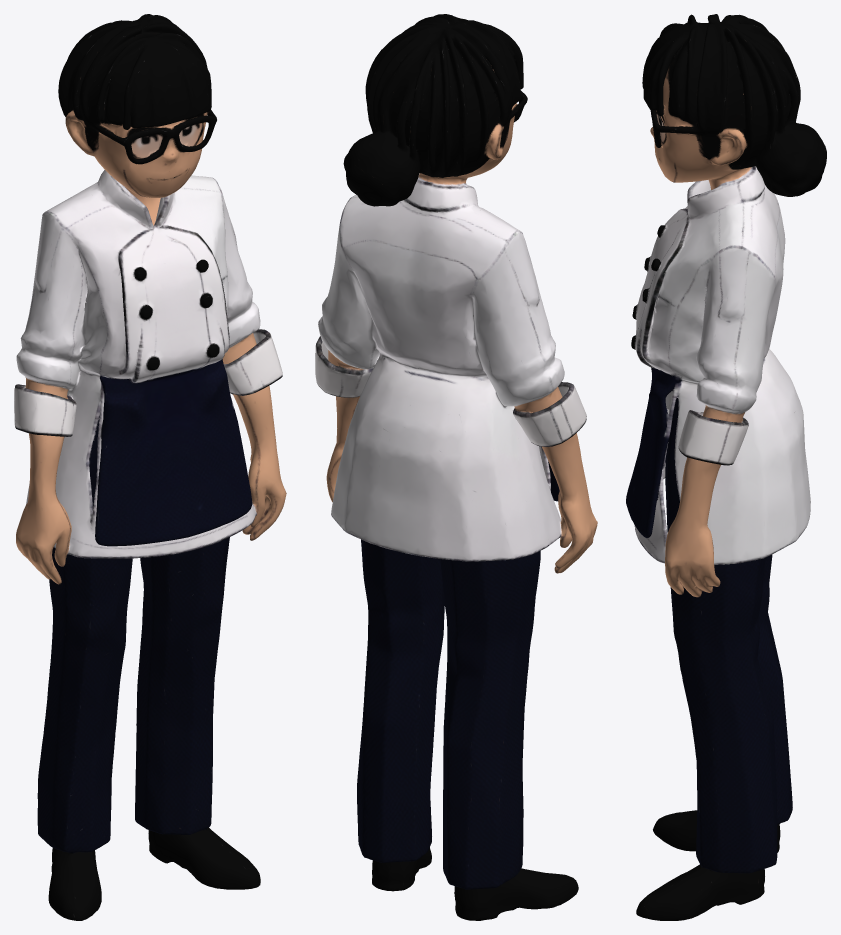
File: miku.glb
3 views of the same model, side by side, from view 1: azimuth 30°, elevation 25°; view 2: azimuth 150°, elevation 25°; view 3: azimuth 270°, elevation 25° (orthographic).
Visible parts, largest first — view 1: world; view 2: world; view 3: world.
Part boxes in pixels (x1,y1,x2,y2): world: (14, 14, 286, 920); world: (315, 14, 597, 920); world: (626, 14, 826, 920).
Bounding box in the file's own units: 0.3216 × 1 × 0.2126.
Materials: 1 (1 with a texture image).
